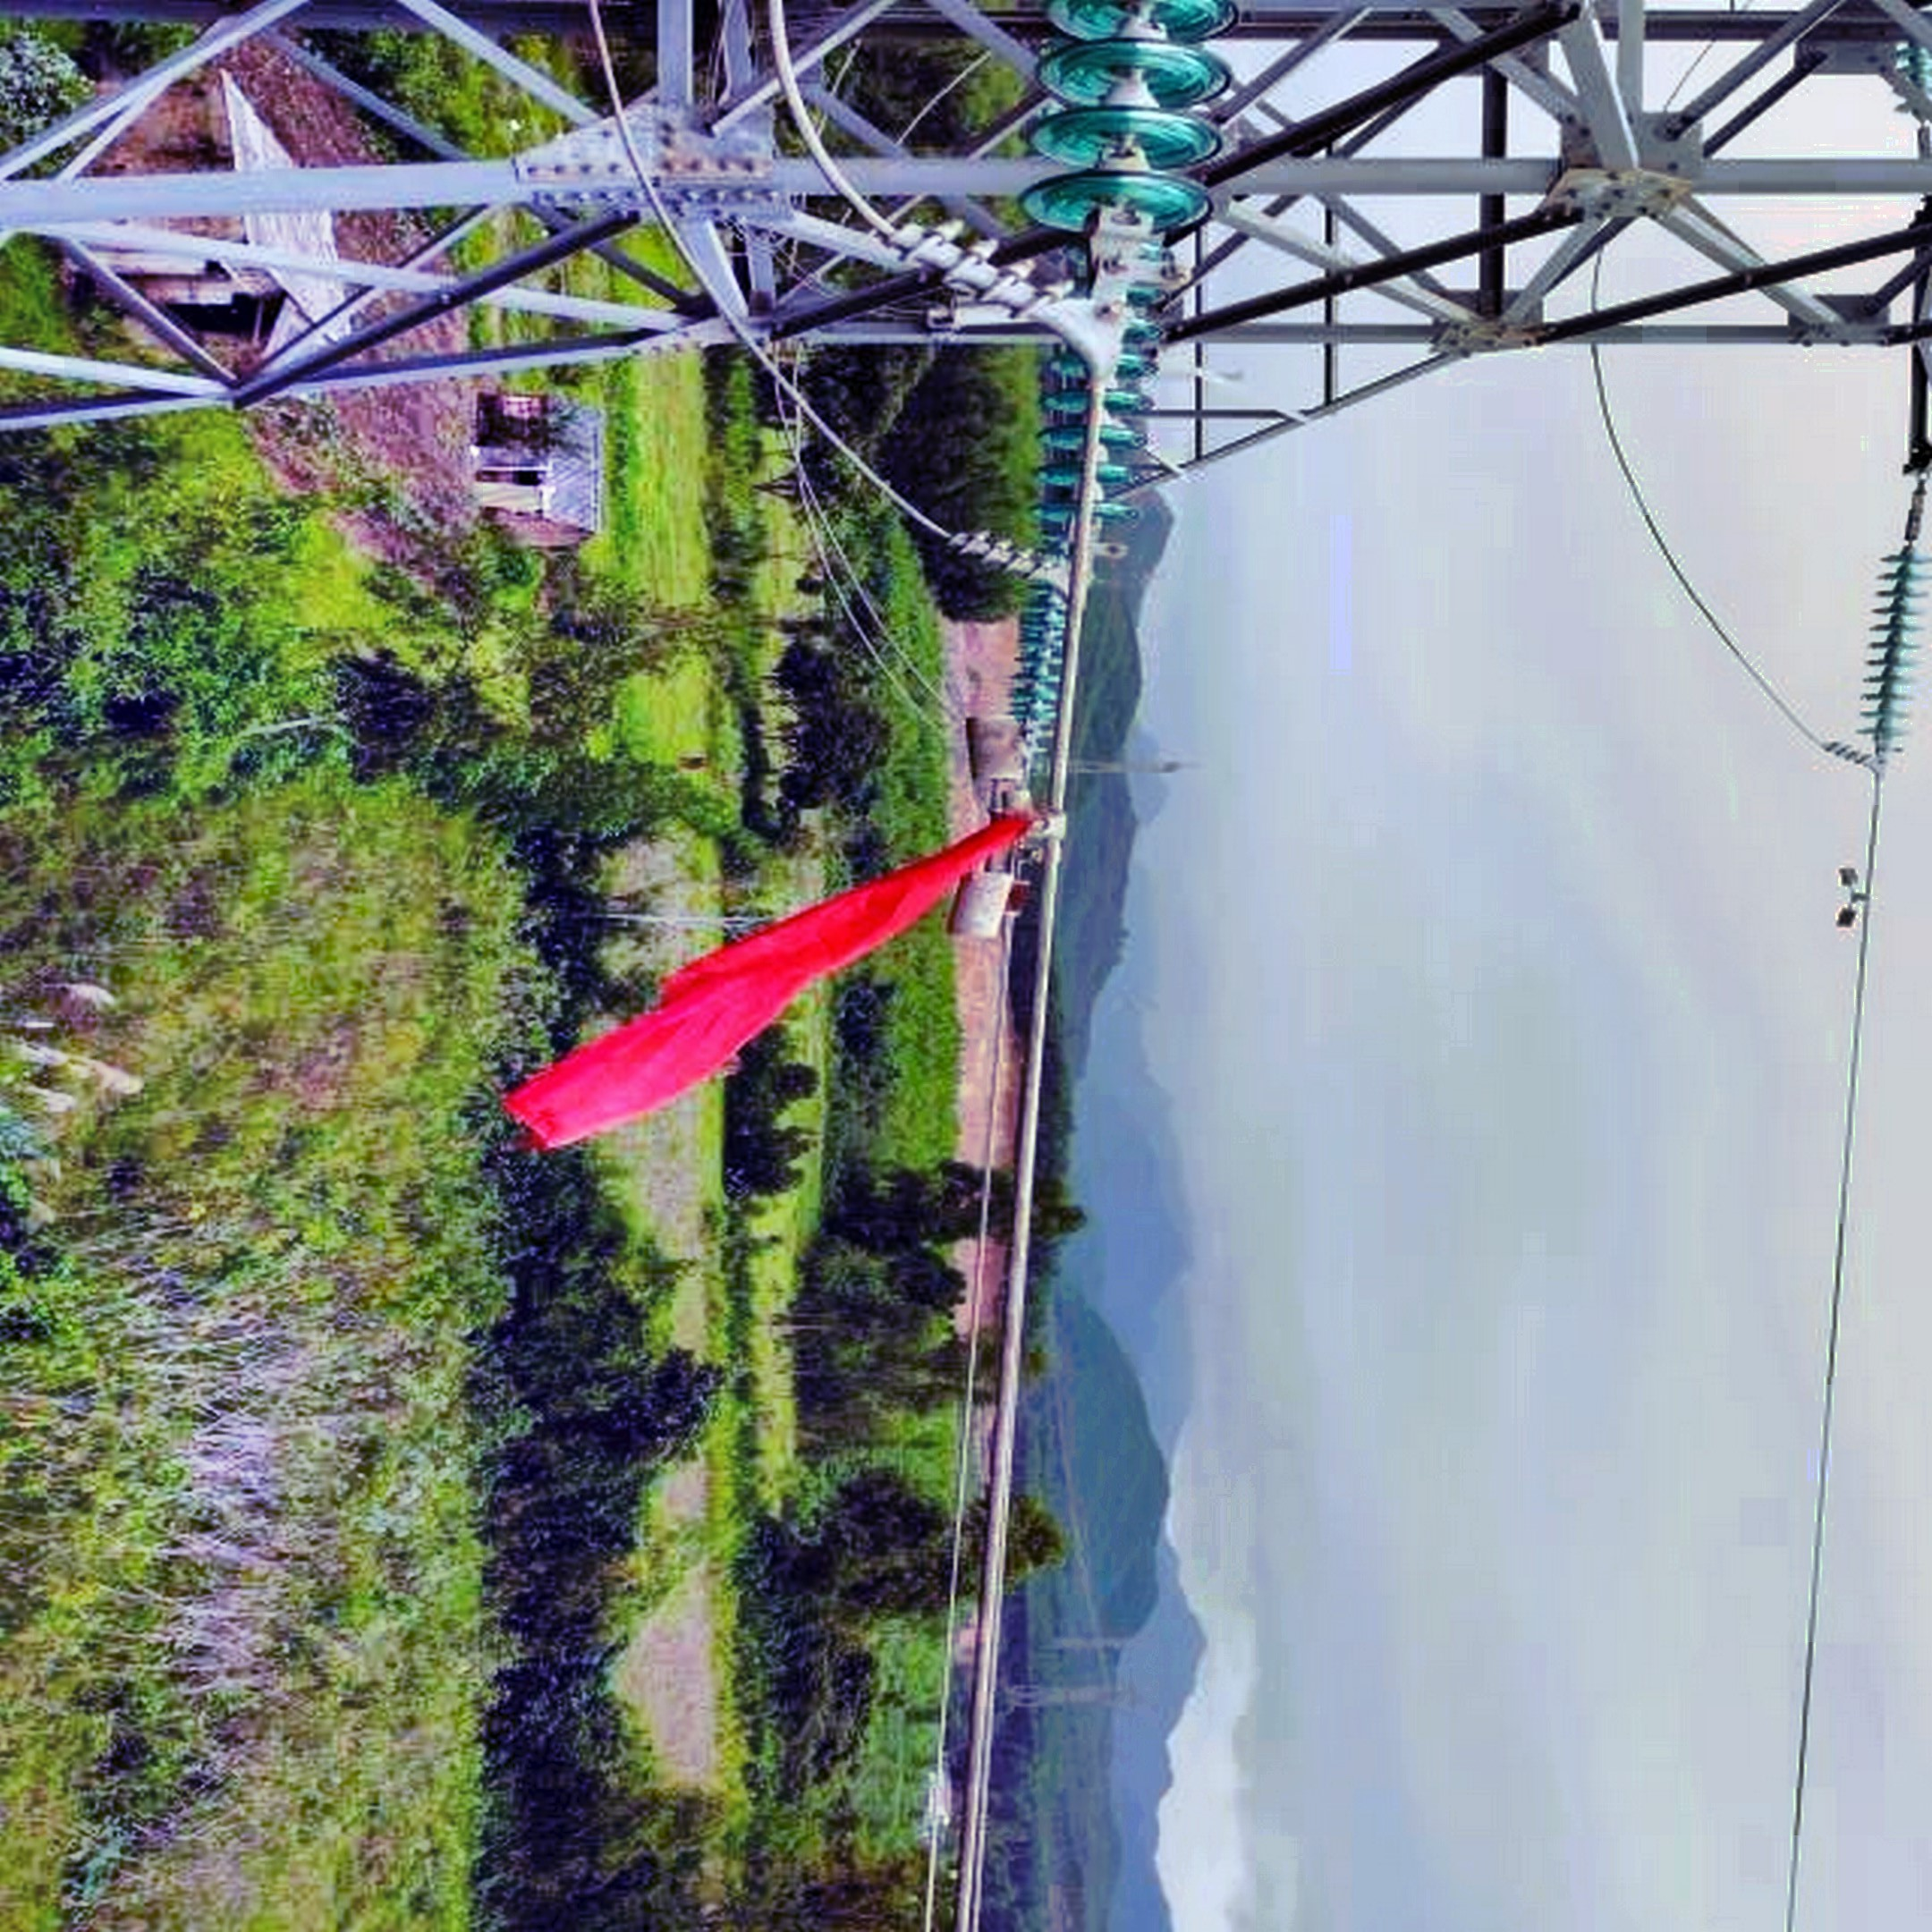wire foreign body: (497, 786, 1081, 1157)
